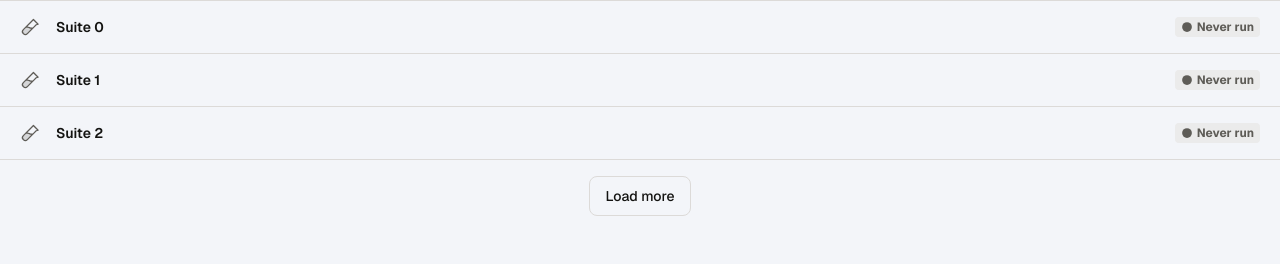
Test: SuiteListResults announcements › says nothing when the next page fails
This screenshot has width=1280, height=264.
Click the button "Load more" at (640, 196), box [588,176,692,216]
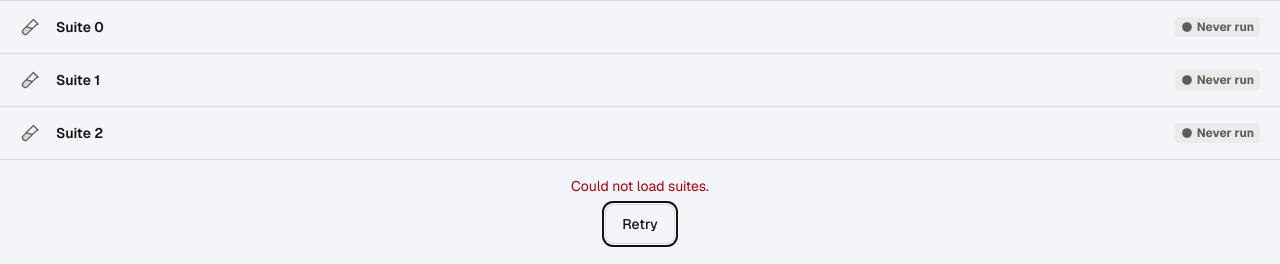
Expected: the message "Could not load suites." is shown, [571,176,709,196]
